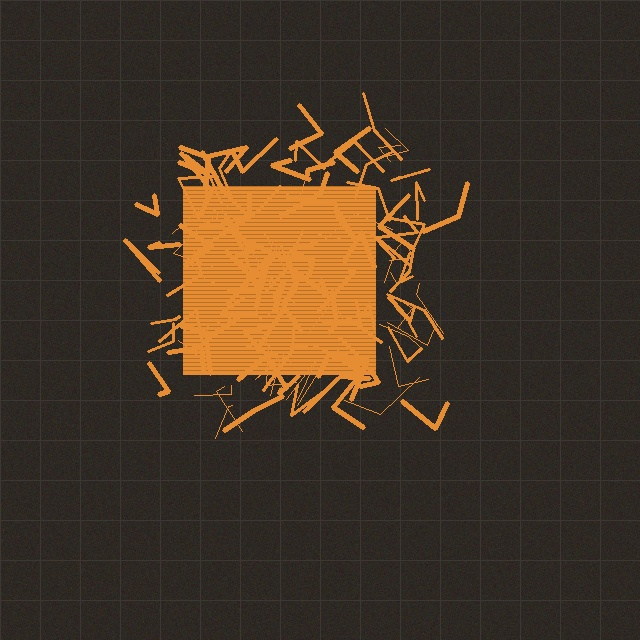spaghetti: (143, 136, 435, 424)
